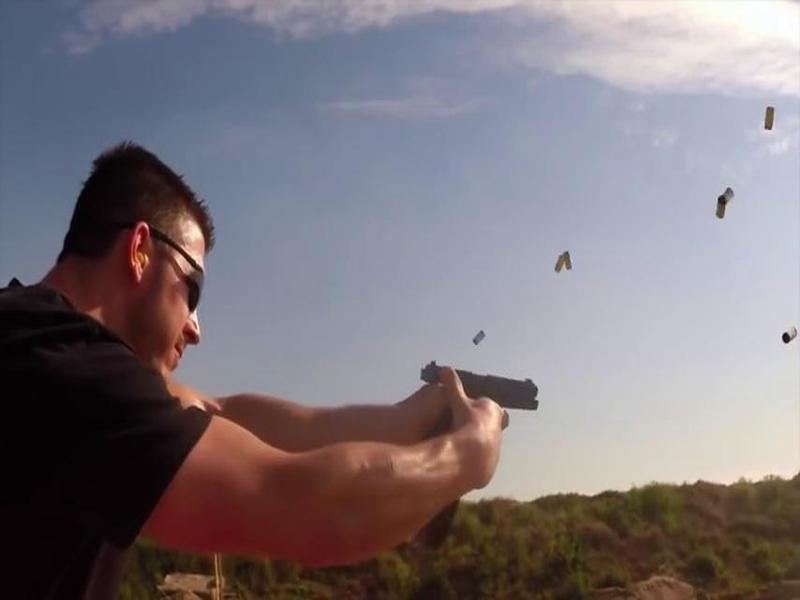Pistola: (408, 356, 551, 471)
